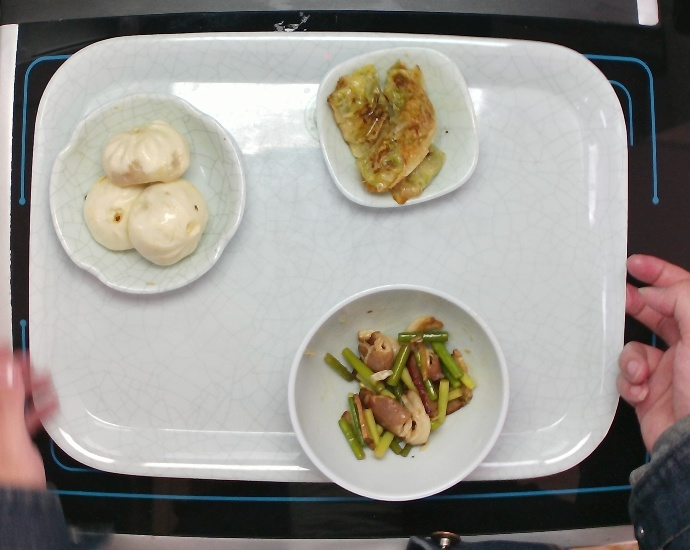JYsf-Ao_Yuan_Wan: (45, 90, 254, 305)
JYsf-Fan_Wan: (285, 272, 517, 505)
JYsf-Si_Fang_Die: (309, 44, 482, 213)
